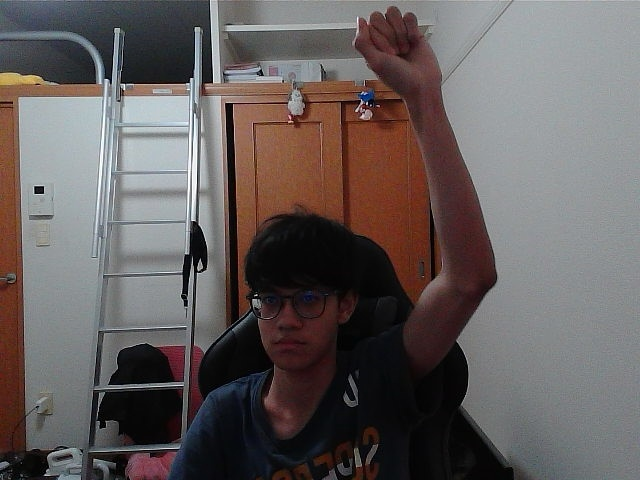closed_palm: (360, 12, 424, 84)
